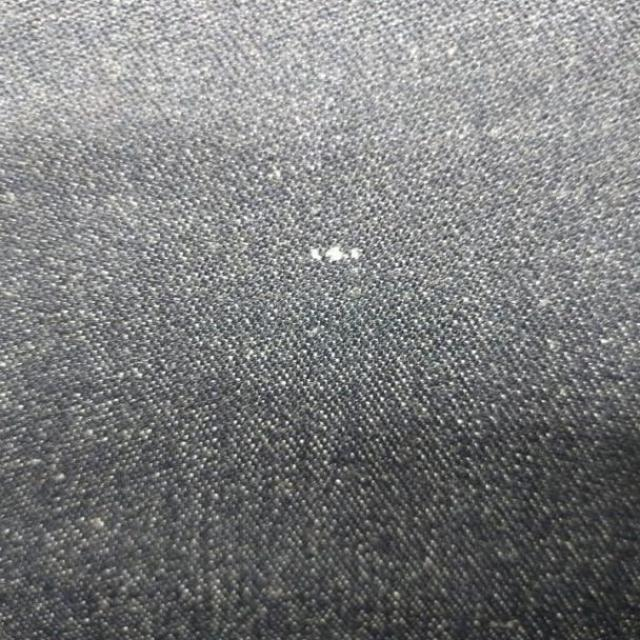Knot: (309, 245, 363, 263)
